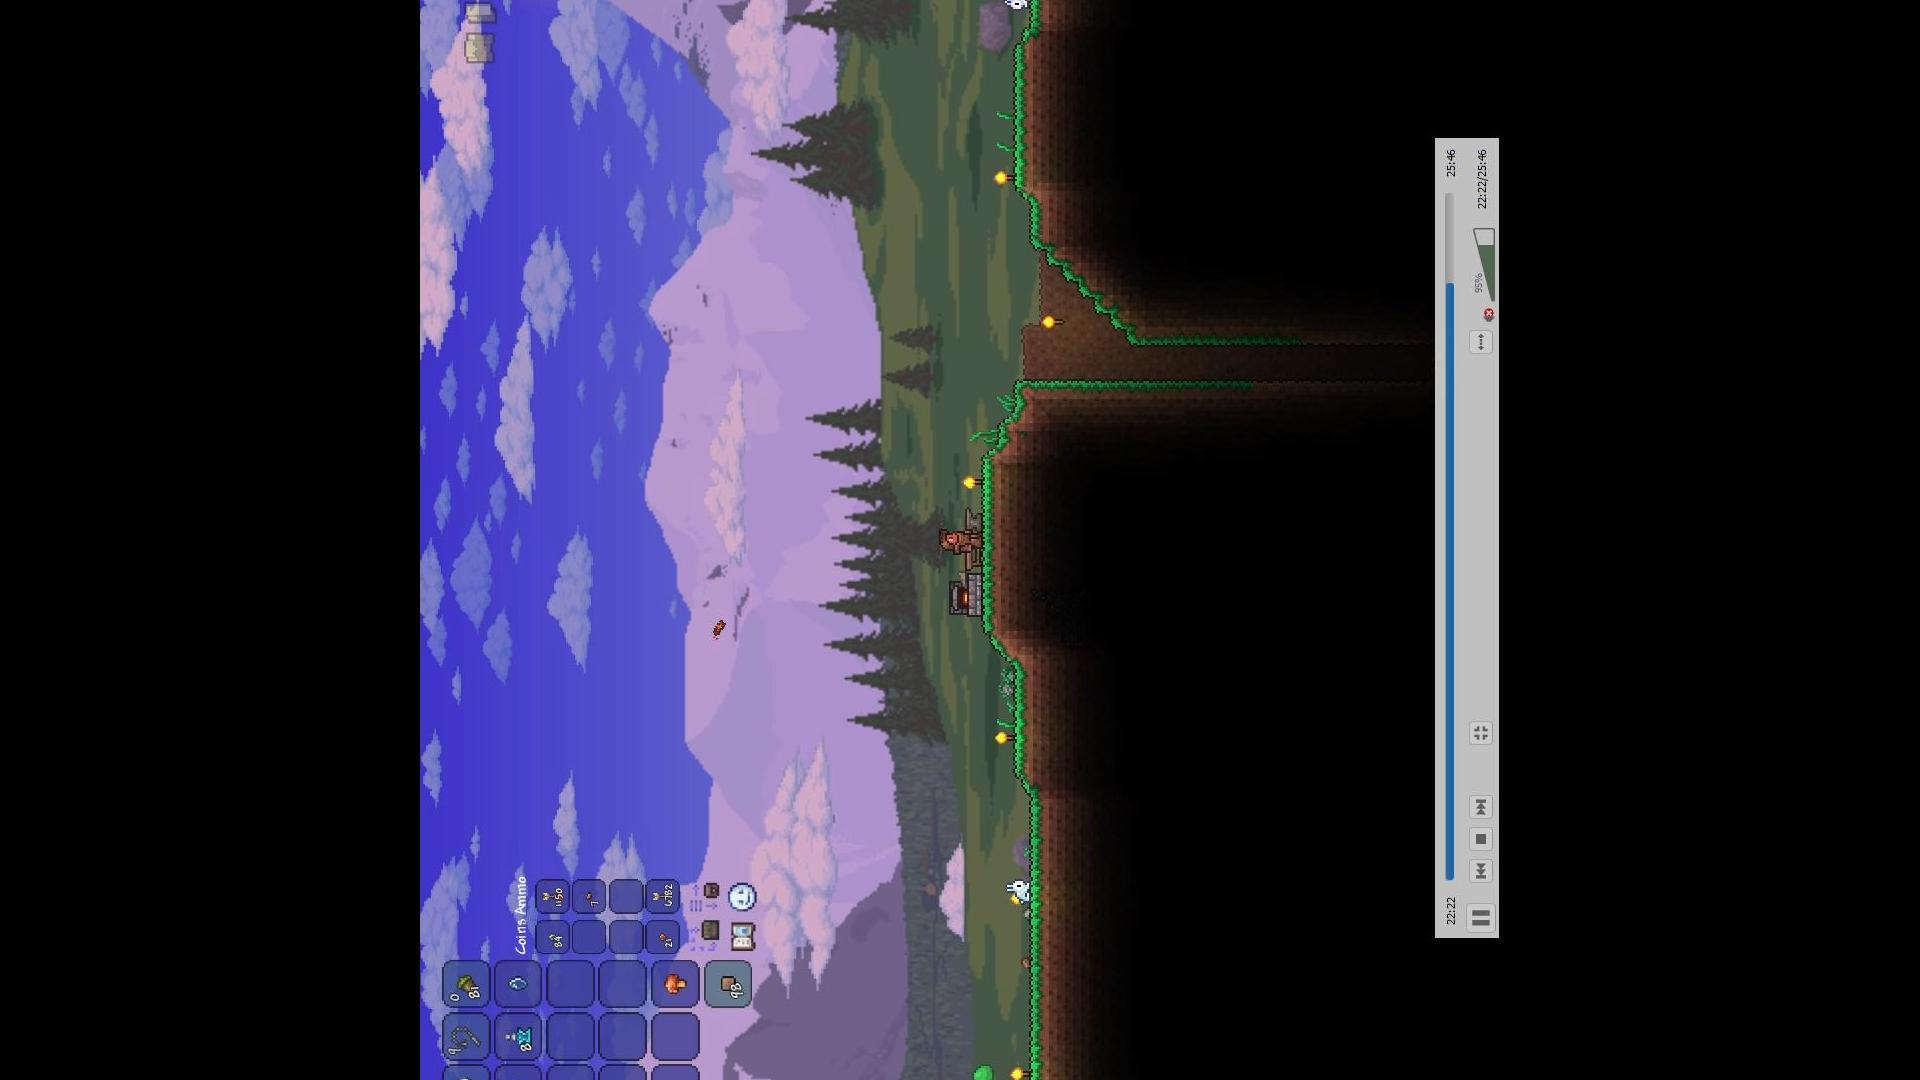anvil: (961, 504, 989, 531)
furnace: (945, 567, 986, 617)
recallP: (502, 1025, 535, 1047)
slime: (971, 1059, 996, 1080)
